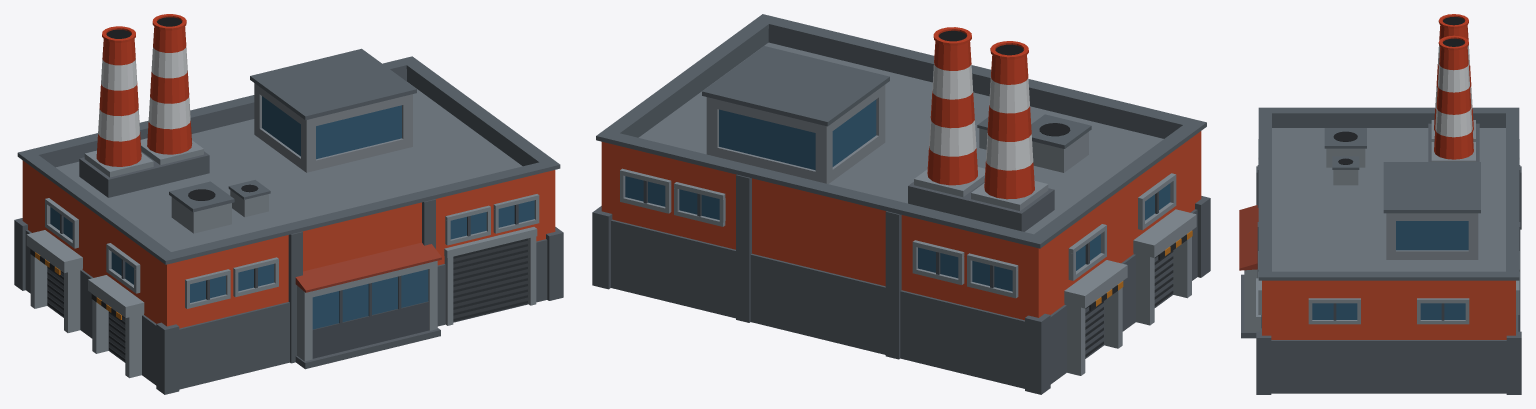
The model's file is factory c.fbx.
The picture shows the model from 3 angles, left to right: view 1: azimuth 30°, elevation 25°; view 2: azimuth 150°, elevation 25°; view 3: azimuth 270°, elevation 25°; orthographic projection. The views are drawn at different scales.
Visible parts, largest first — view 1: Factory_Building_C_Large; view 2: Factory_Building_C_Large; view 3: Factory_Building_C_Large.
Boxes of the visible parts, x1,y1,x2,y2 form: Factory_Building_C_Large: (14, 14, 563, 394); Factory_Building_C_Large: (592, 14, 1210, 394); Factory_Building_C_Large: (1239, 14, 1521, 394).
Bounding box in the file's own units: 1552 × 945 × 1043.
